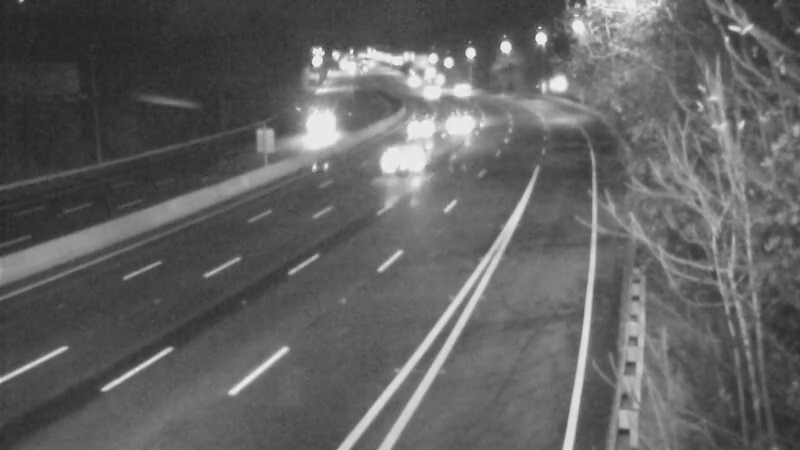vehicle: (364, 121, 444, 201), (437, 65, 487, 115), (408, 68, 458, 118), (442, 96, 492, 146), (397, 104, 447, 154), (299, 98, 349, 148)
